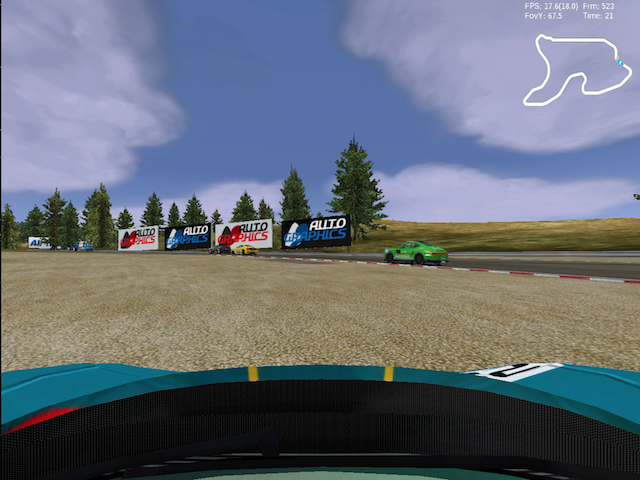Boxer96: (383, 242, 449, 267)
Cavallo360: (230, 245, 259, 256)
Spirit300: (208, 246, 229, 255)
